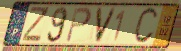1: (113, 10, 126, 42)
9: (46, 5, 69, 44)
C: (132, 6, 159, 46)
P: (64, 6, 93, 44)
V: (94, 6, 118, 44)
Z: (20, 6, 51, 44)
